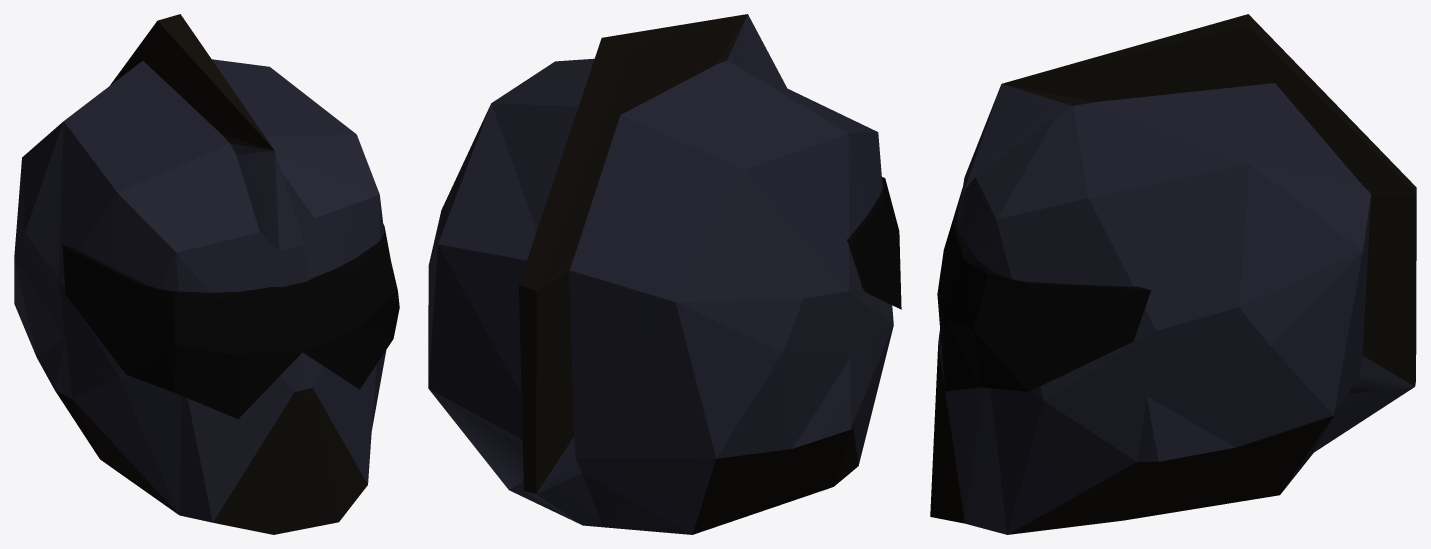
The model's file is helmet.outlaw.fbx.
3 views of the same model, side by side, from view 1: azimuth 30°, elevation 25°; view 2: azimuth 150°, elevation 25°; view 3: azimuth 270°, elevation 25° (orthographic). The views are drawn at different scales.
Visible parts, largest first — view 1: helmet, visor; view 2: helmet, visor; view 3: helmet, visor.
Boxes of the visible parts, left/top/right/bottom form: helmet: left=14, top=14, right=386, bottom=534; visor: left=62, top=224, right=399, bottom=418; helmet: left=428, top=14, right=893, bottom=534; visor: left=847, top=177, right=901, bottom=309; helmet: left=930, top=14, right=1416, bottom=534; visor: left=937, top=188, right=1151, bottom=391.
Bounding box in the file's own units: 27.67 × 35.8 × 32.97.
